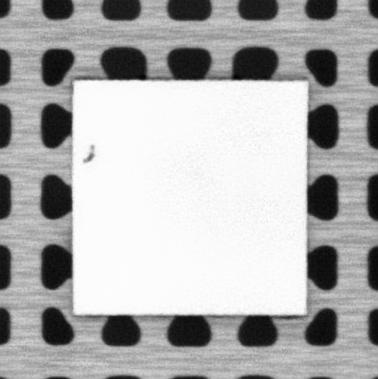DIE_INK: (81, 143, 96, 164)
